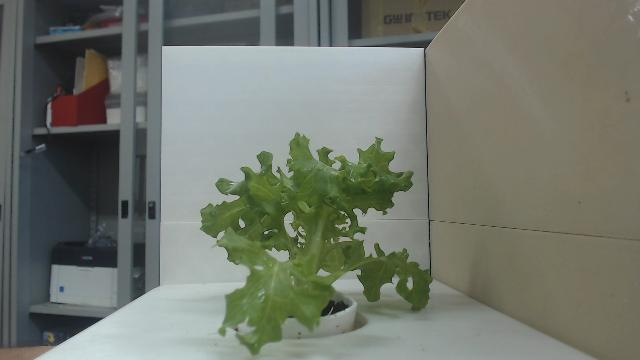Harvest Stage: (200, 130, 432, 356)
